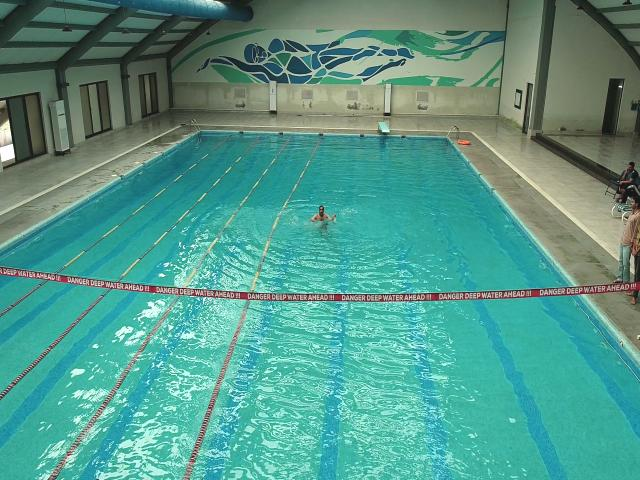out of water: (620, 196, 640, 290), (616, 157, 636, 188)
swimming: (310, 204, 336, 234)
